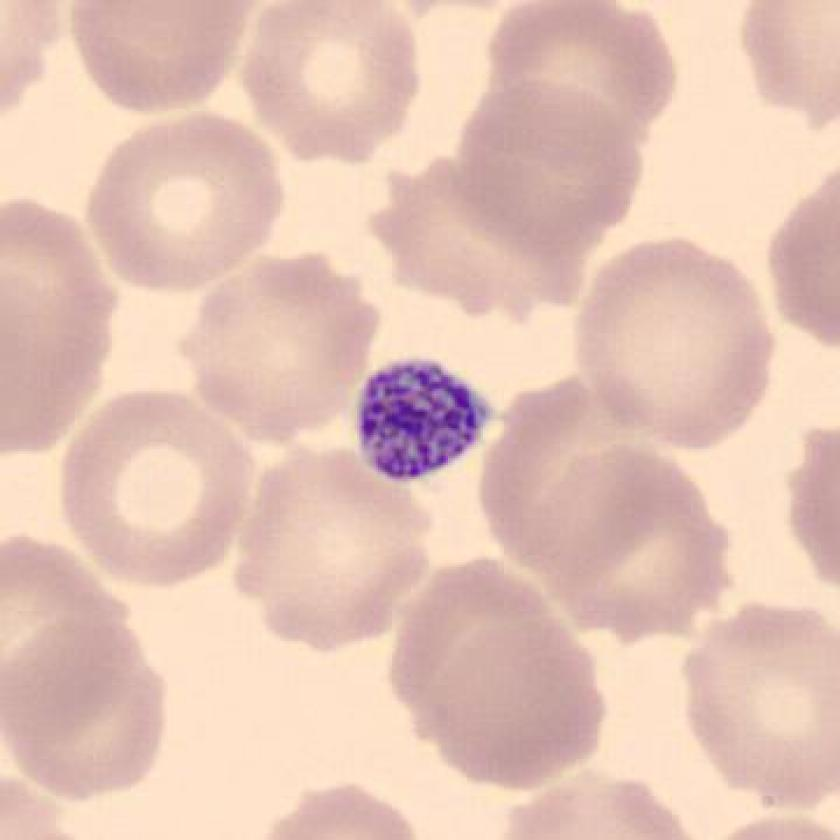platelets: (344, 348, 505, 496)
